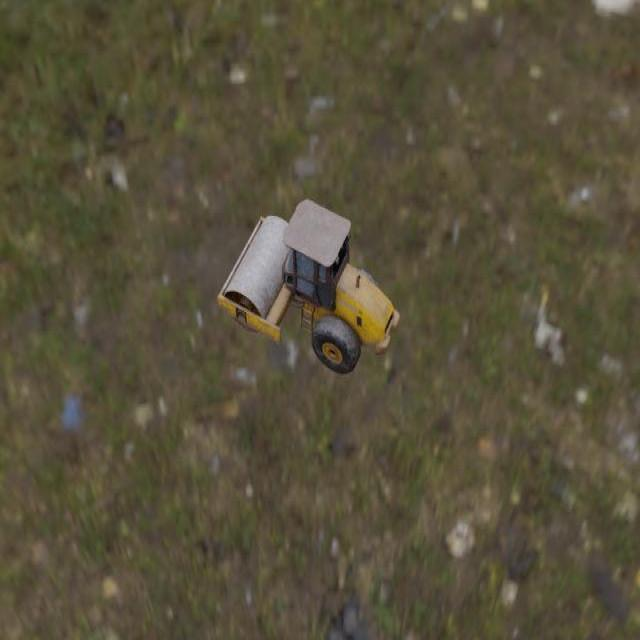Roller: (216, 198, 400, 374)
